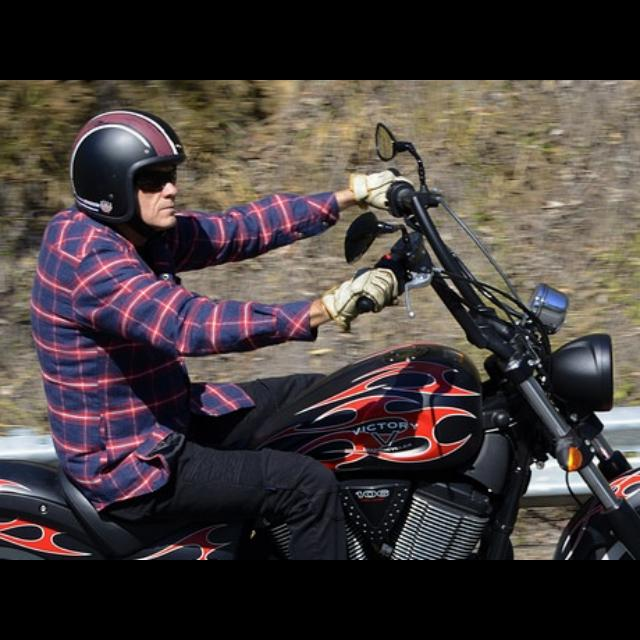With Helmet: (62, 104, 196, 240)
